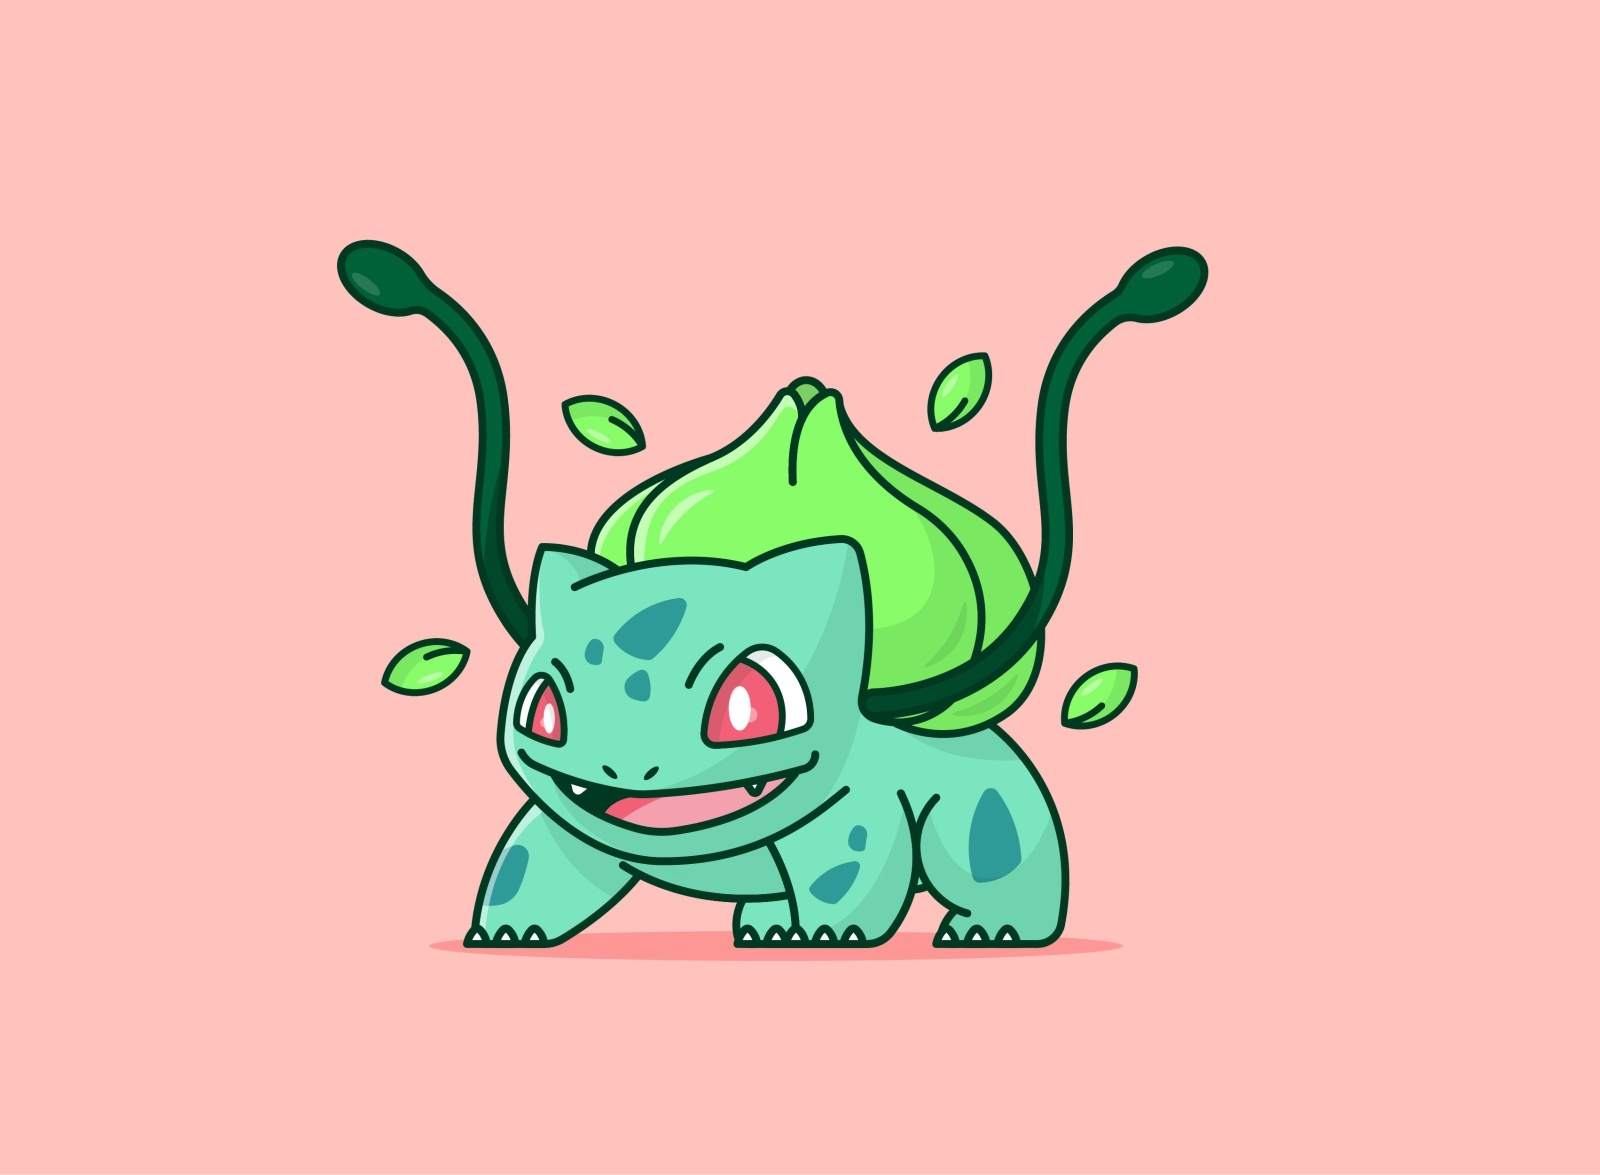001-bulbasaur: (451, 384, 1103, 951)
